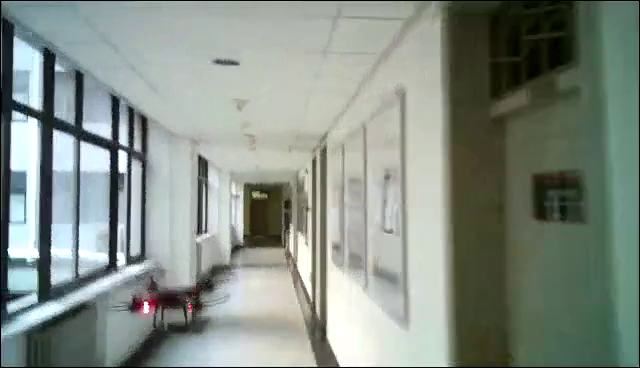drone: (100, 262, 235, 329)
